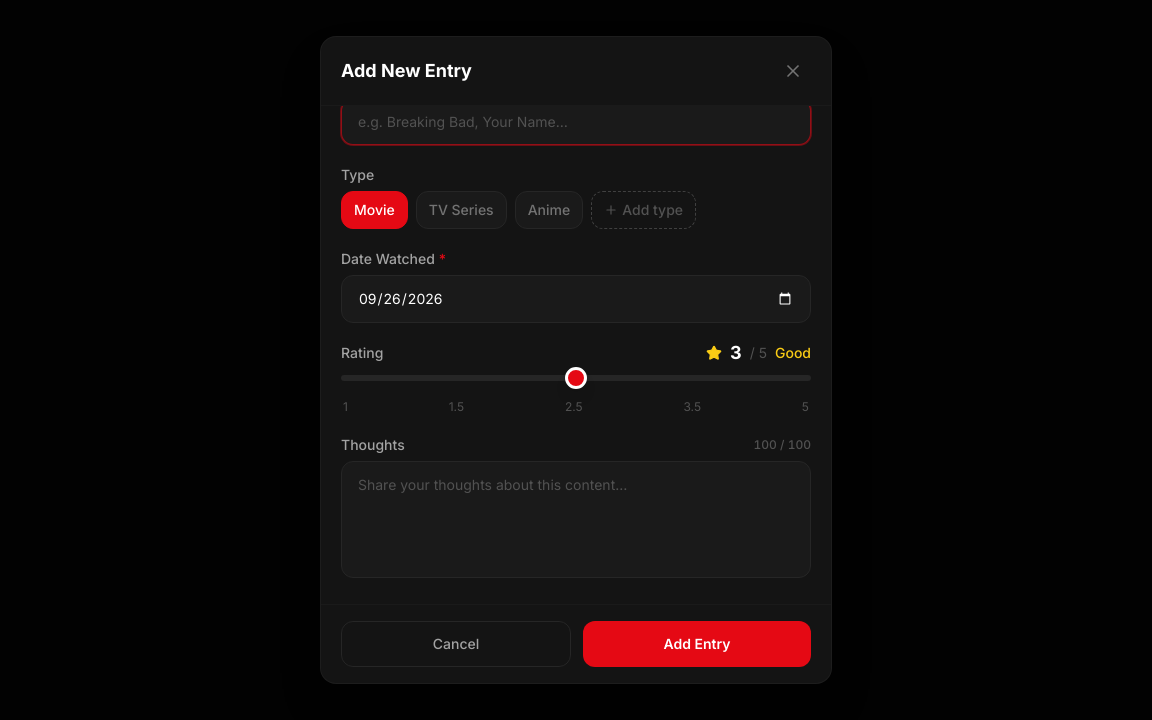
Scenario: AddEntryModal › shows validation error when title is empty on submit
(page scrolled)
Click the button "Add Entry".
click(697, 644)  # box [583,621,811,667]
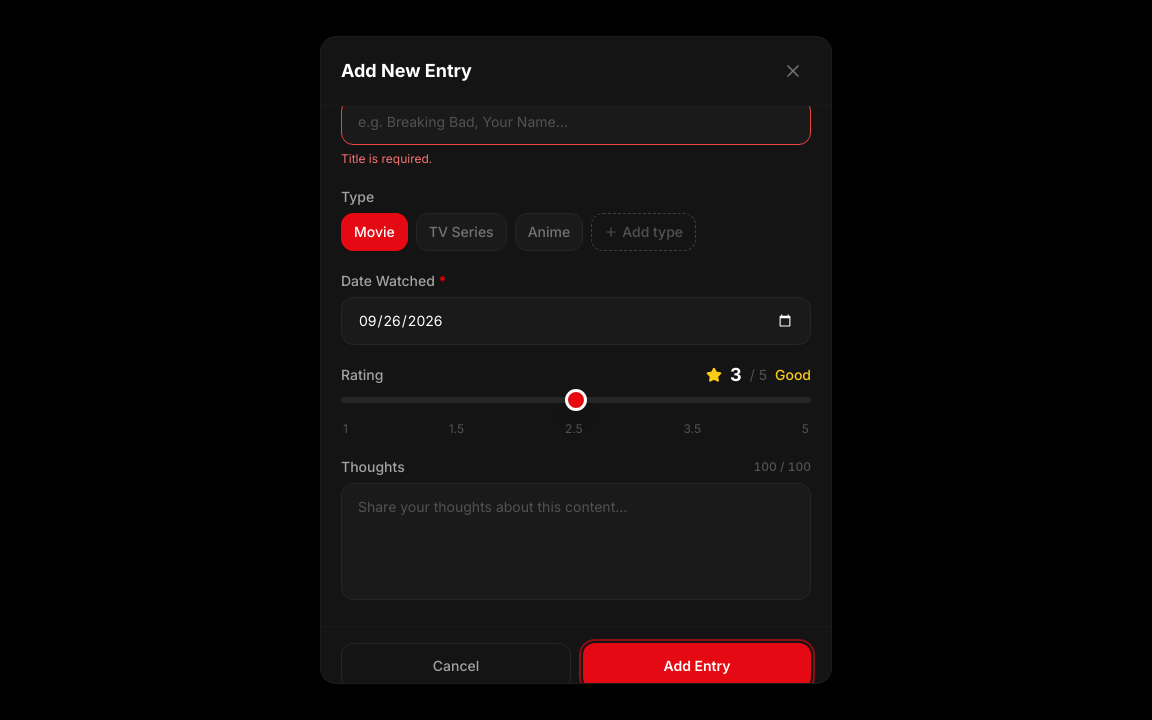
Now the text "Title is required." is shown, box [341,151,432,166]
